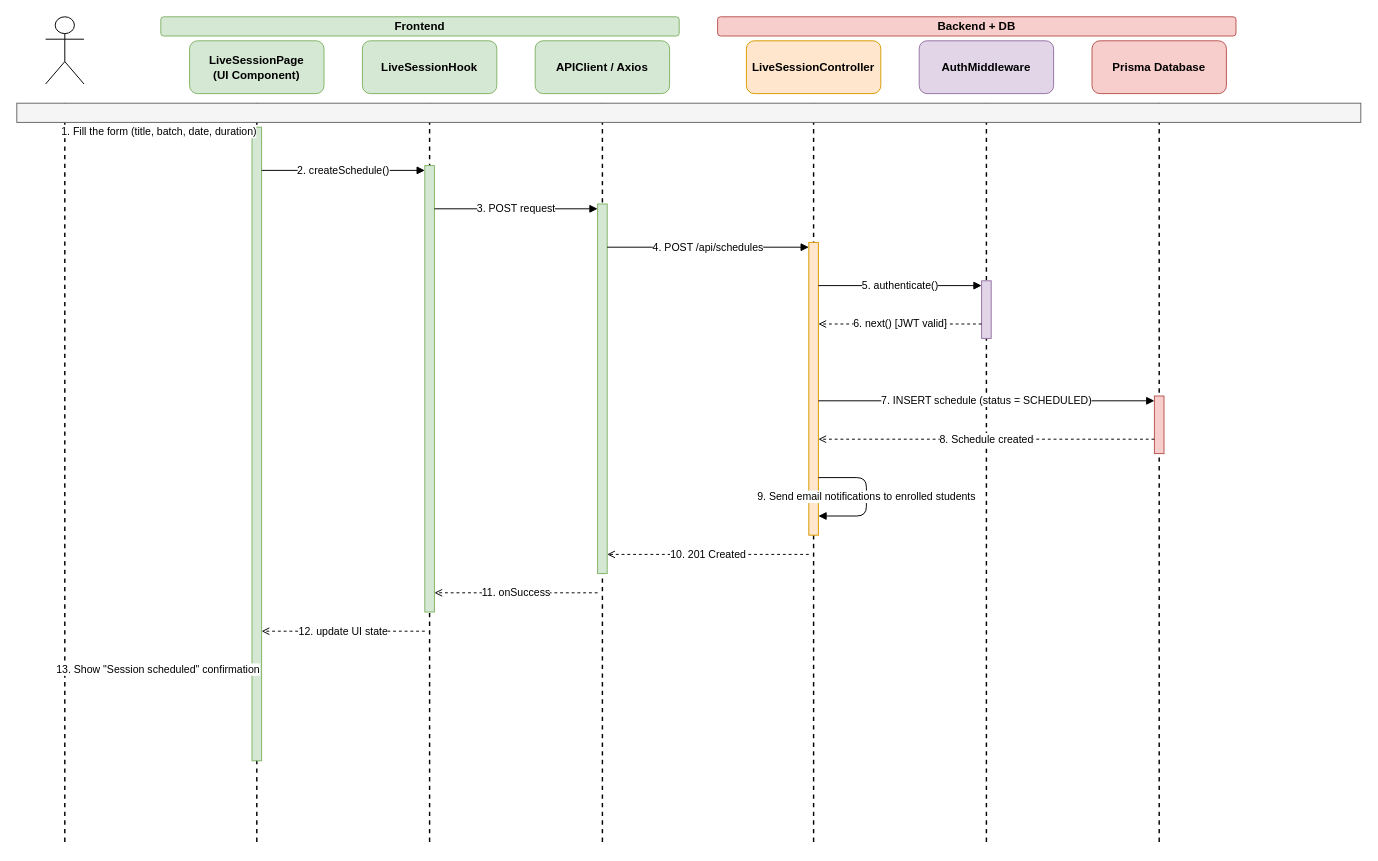
This 1378x861 diagram has some shape labels left out. The centre of each missing label's shape, as x and y in pixels:
"Instructor" belongs at (64,50).
"Phase 1 — Session Planning" belongs at (688,112).
